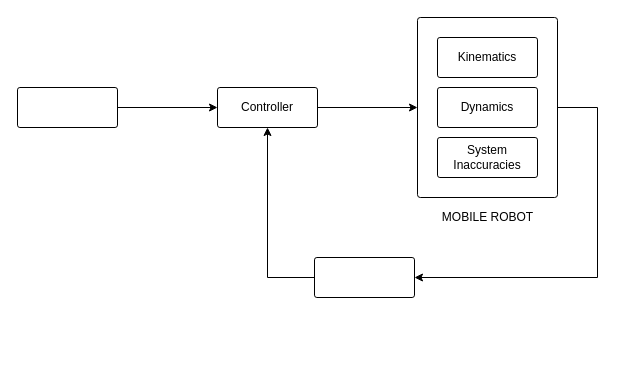
The diagram is 623 pixels wide and 391 high, and some of its shapes have lost their labels. The shapes that lost their labels are listed below. From the top down, each one's box as (x1, y1, x2, y2) in pixels, then its label:
(16, 86, 118, 128): Motion Planning
(314, 256, 414, 298): Perception
